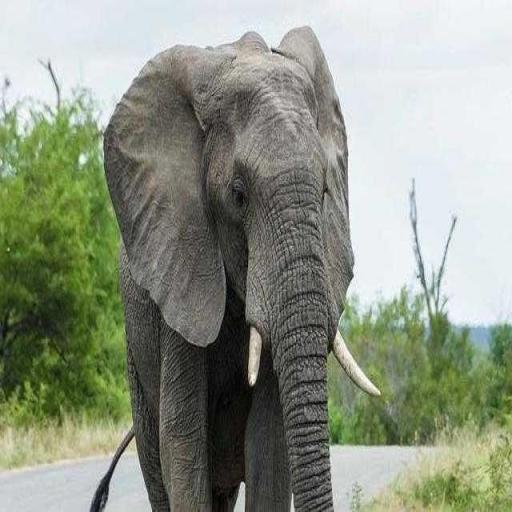Elephant: (88, 24, 382, 510)
